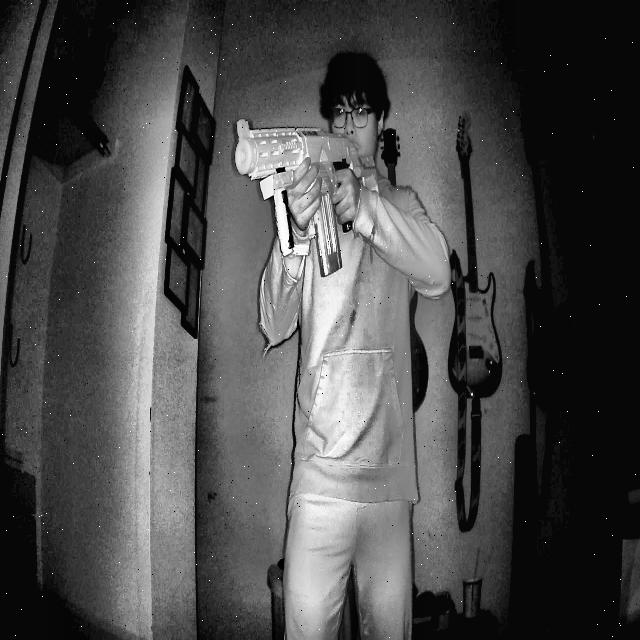Nerf_Blaster: (226, 106, 386, 284)
